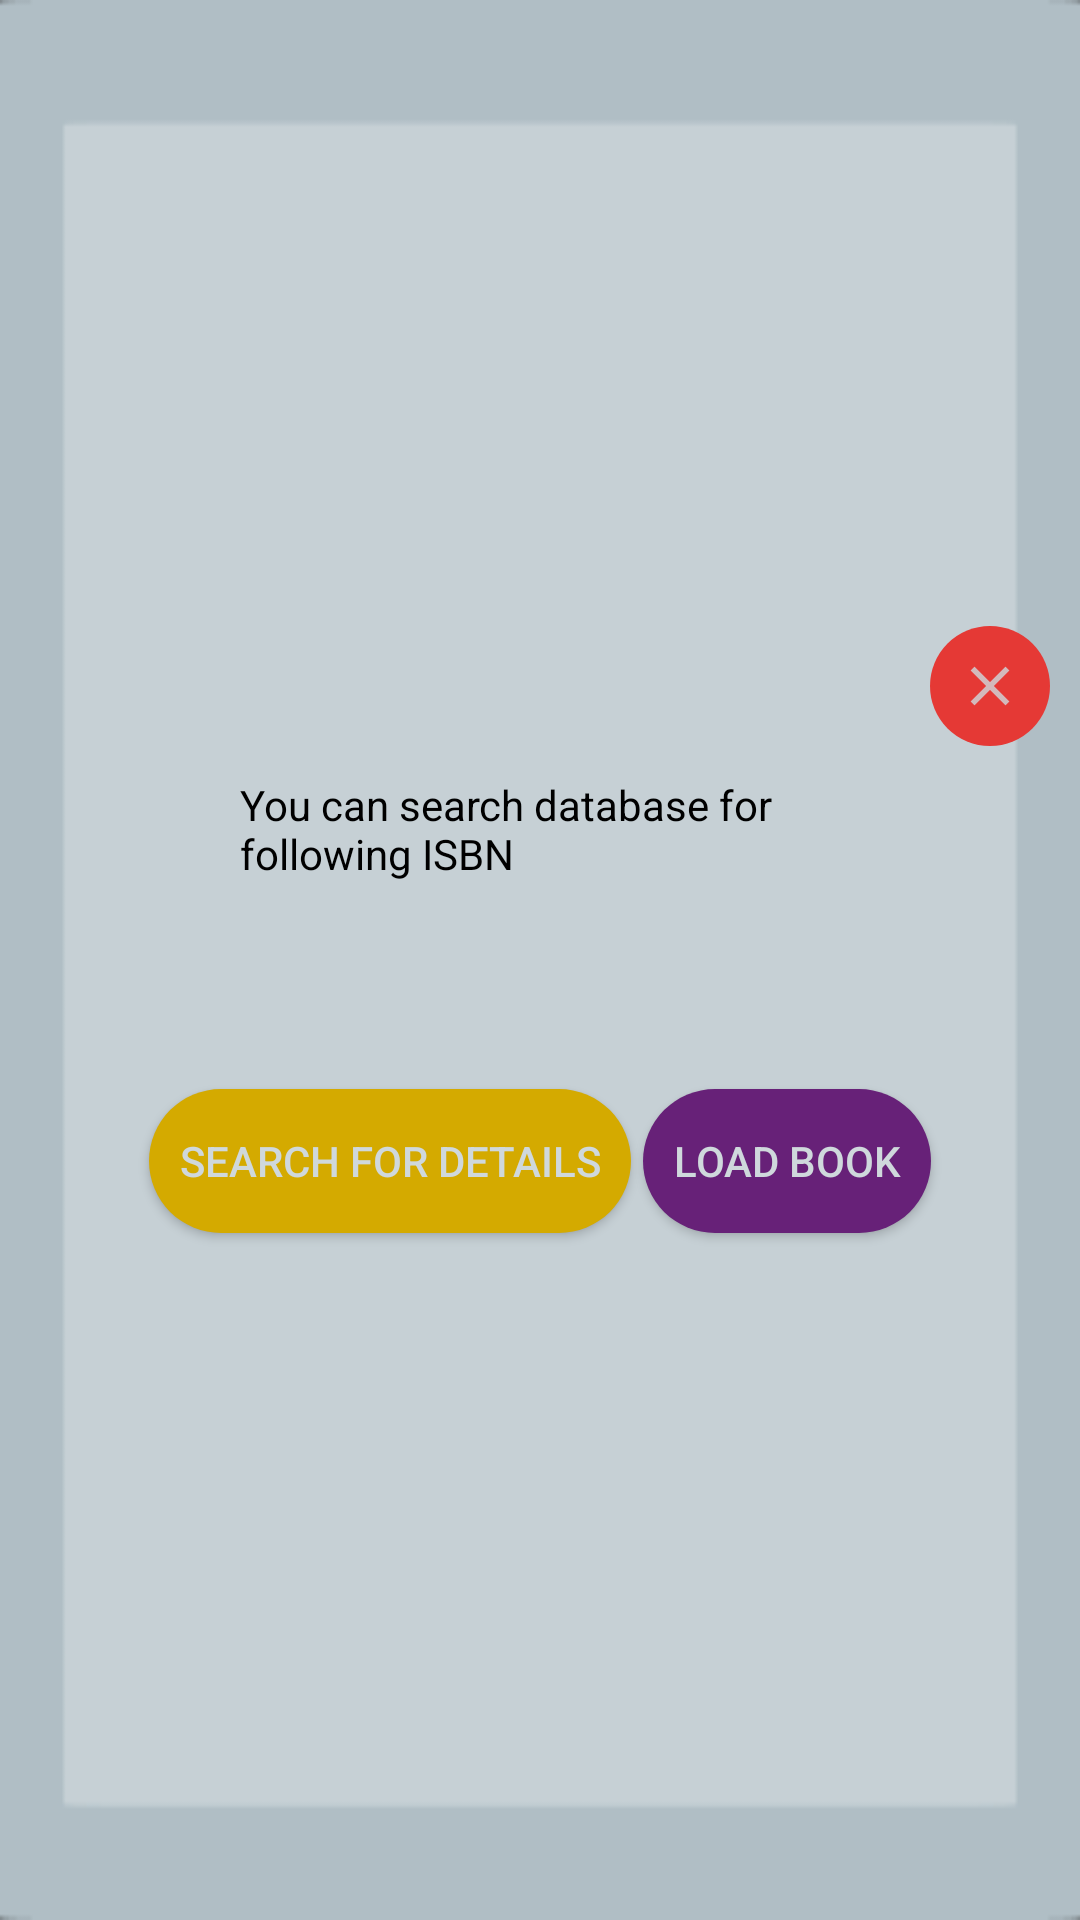

Point at icon controls on the screen. Image size 1080×1920, points as point (x, y).
Close: point (990, 686)
